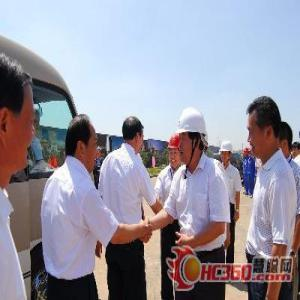none: (4, 47, 39, 192), (245, 94, 279, 160), (64, 114, 102, 172), (122, 116, 144, 155), (275, 117, 295, 159)
red: (168, 134, 184, 171)
white: (176, 108, 208, 164), (220, 140, 234, 167)
